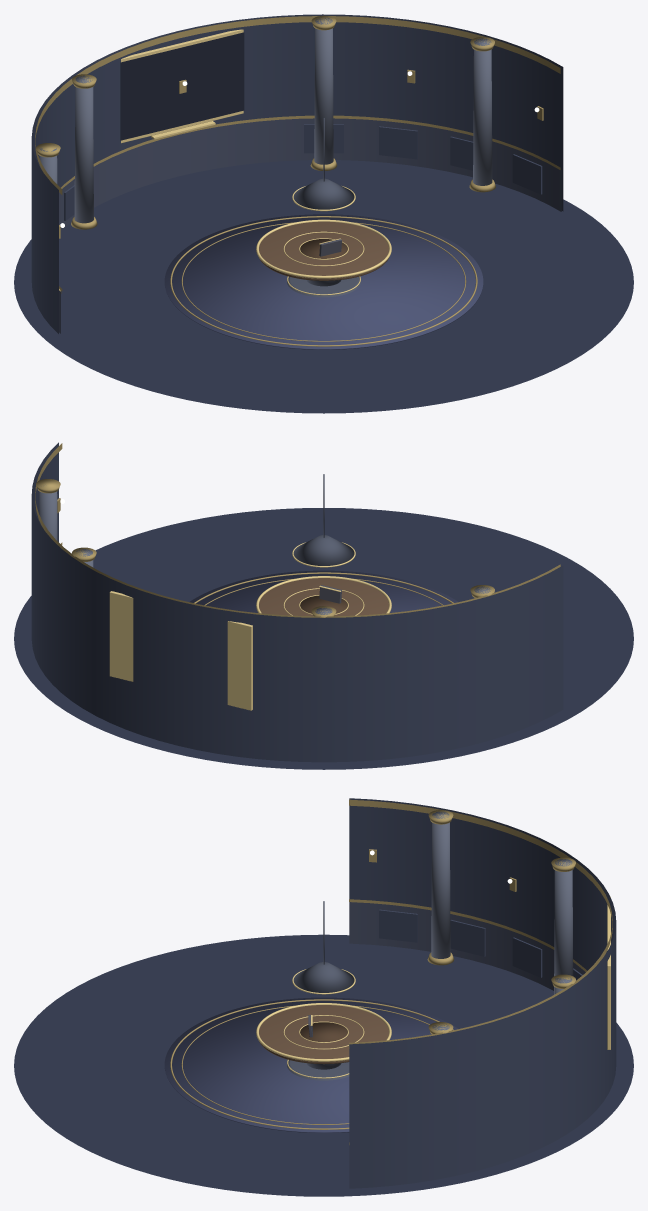
Rendered from table.glb.
3 renders of one model, top to bottom at view 1: azimuth 30°, elevation 25°; view 2: azimuth 150°, elevation 25°; view 3: azimuth 270°, elevation 25°, orthographic.
Visible parts, largest first — view 1: Floor, Wall_Back, Rug, Wall_Wainscot, Whiteboard_Face, Table_Top, Wall_Cornice, Pillar_03, Pillar_02, Pillar_01, Rug_Trim, Wall_Chair_Rail (+9 smaller); view 2: Wall_Back, Floor, Whiteboard_Frame, Rug, Table_Top, Wall_Cornice, Lamp_Shade, Pillar_03, Rug_Trim, Table_Rim, Table_Centre; view 3: Floor, Wall_Back, Rug, Wall_Wainscot, Table_Top, Pillar_04, Wall_Cornice, Pillar_02, Lamp_Shade, Wall_Panel_11, Wall_Panel_10, Rug_Trim (+6 smaller).
Part boxes in pixels (x1,y1,x2,y2): Floor: [14, 160, 633, 413]; Wall_Back: [31, 14, 563, 333]; Rug: [164, 214, 483, 349]; Wall_Wainscot: [59, 118, 561, 333]; Whiteboard_Face: [120, 32, 244, 140]; Table_Top: [259, 221, 388, 280]; Wall_Cornice: [35, 16, 560, 194]; Pillar_03: [473, 38, 492, 185]; Pillar_02: [74, 75, 93, 223]; Pillar_01: [314, 17, 333, 164]; Rug_Trim: [170, 216, 477, 346]; Wall_Chair_Rail: [59, 115, 560, 291]; Wall_Back: [31, 442, 563, 762]; Floor: [14, 508, 633, 769]; Whiteboard_Frame: [109, 591, 252, 710]; Rug: [189, 570, 458, 612]; Table_Top: [259, 578, 388, 616]; Wall_Cornice: [35, 443, 560, 617]; Lamp_Shade: [293, 535, 354, 565]; Pillar_03: [39, 491, 57, 540]; Rug_Trim: [194, 572, 453, 603]; Table_Rim: [256, 576, 391, 613]; Table_Centre: [300, 595, 347, 613]; Floor: [14, 934, 633, 1196]; Wall_Back: [349, 798, 616, 1188]; Rug: [164, 997, 458, 1132]; Wall_Wainscot: [349, 902, 585, 990]; Table_Top: [259, 1005, 388, 1064]; Pillar_04: [431, 811, 450, 958]; Wall_Cornice: [349, 799, 612, 1048]; Pillar_02: [554, 859, 573, 994]; Lamp_Shade: [293, 962, 354, 992]; Wall_Panel_11: [379, 909, 417, 942]; Wall_Panel_10: [450, 920, 485, 956]; Rug_Trim: [170, 999, 453, 1129].
Bounding box in the file's own units: 14 × 4.1 × 14.
